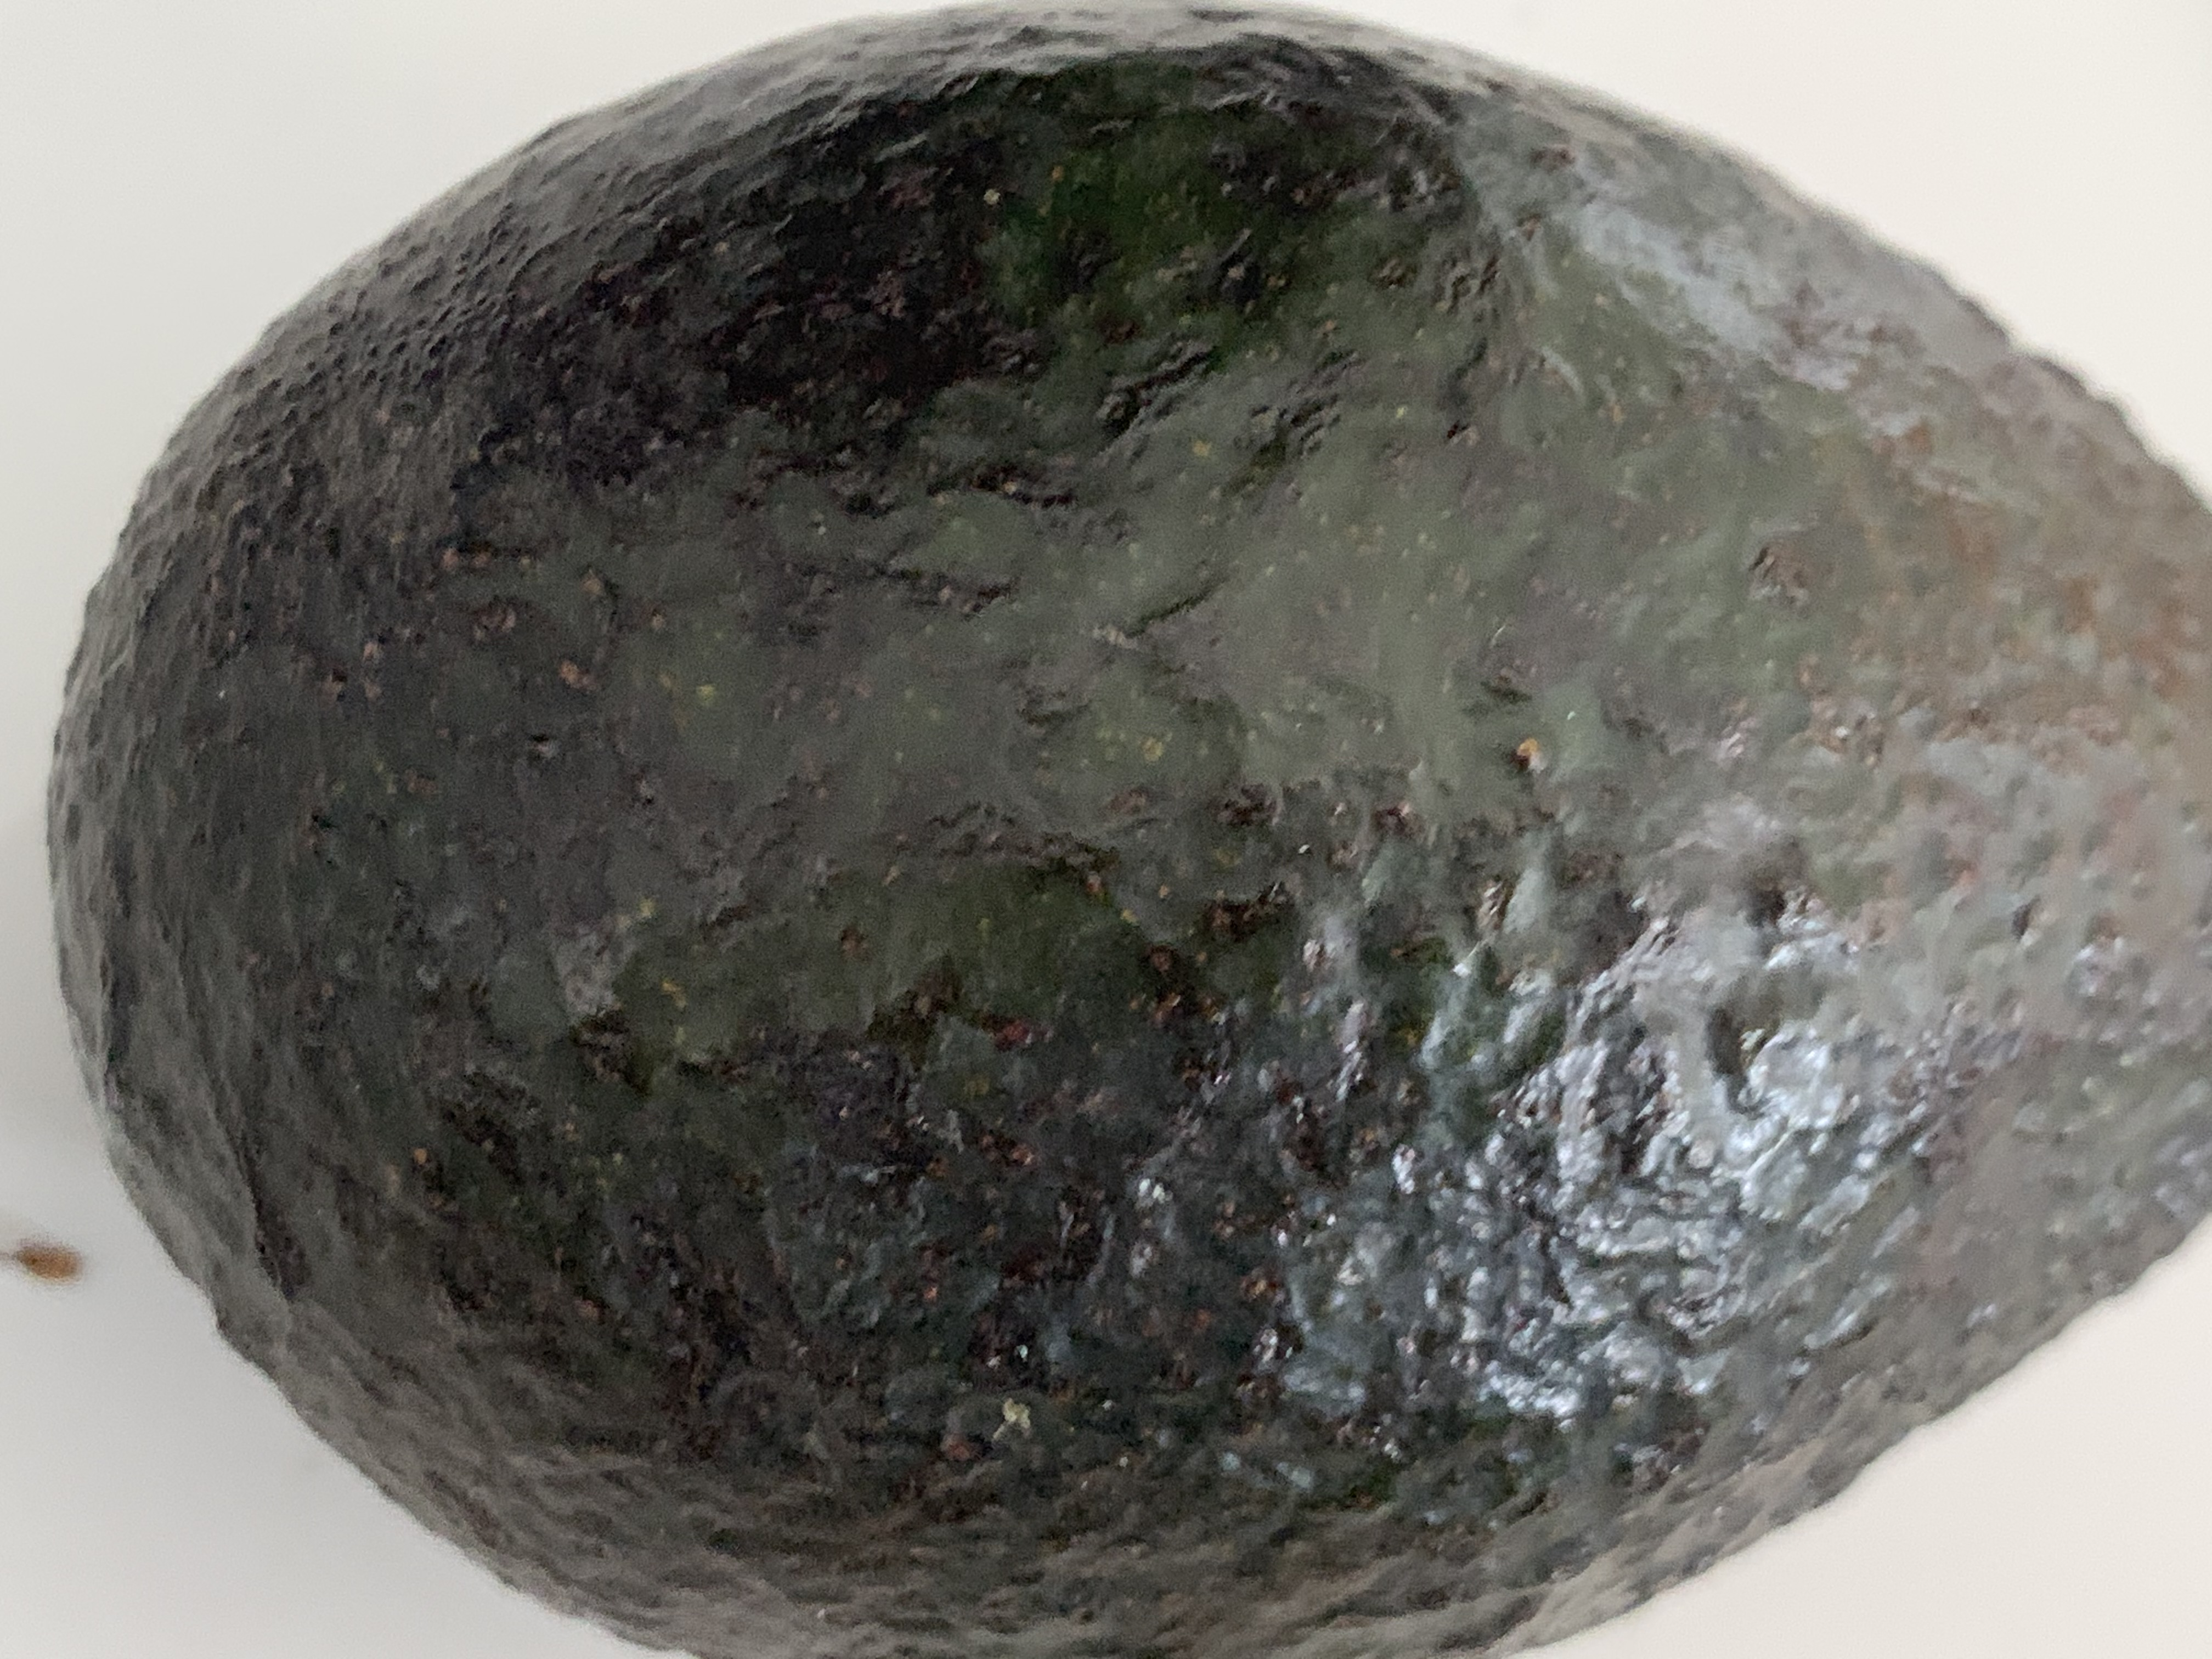avocado: (85, 5, 2195, 1659)
